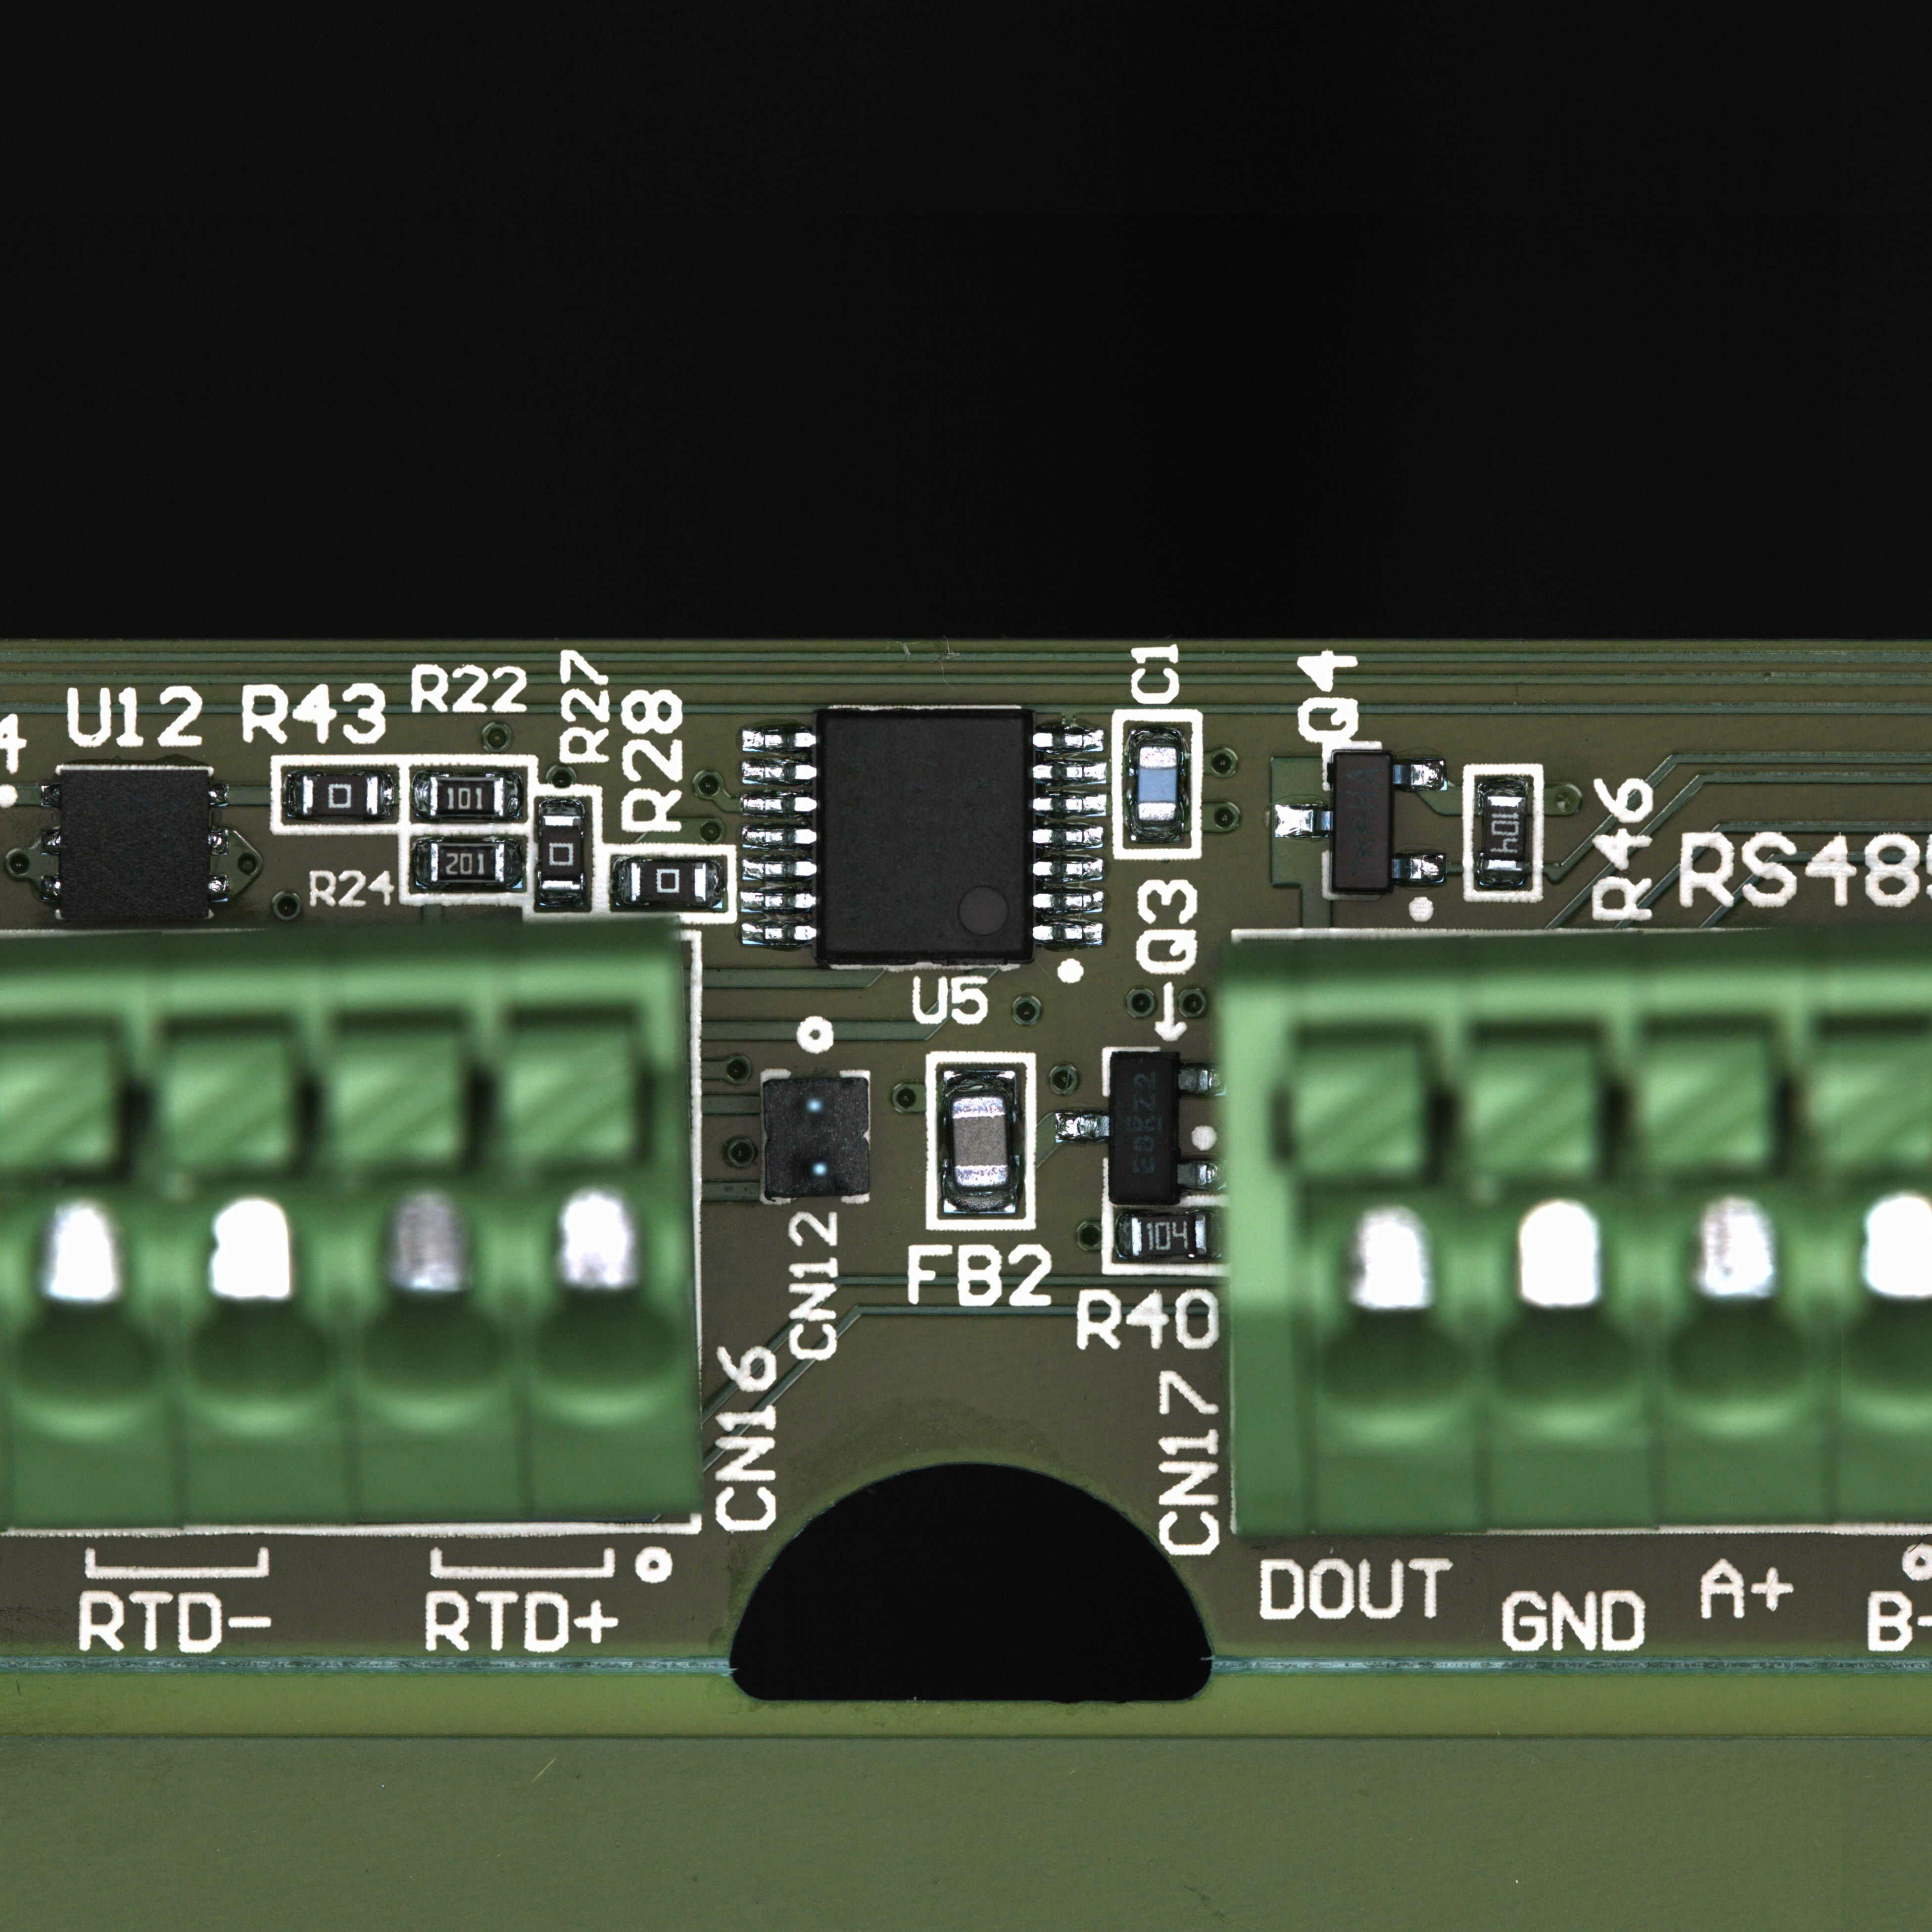Package: (816, 709, 1033, 961), (60, 771, 211, 922), (1109, 1053, 1177, 1207), (1334, 752, 1391, 890), (952, 1097, 1008, 1187), (430, 773, 504, 817), (430, 840, 504, 885), (630, 862, 706, 904), (303, 773, 379, 816), (543, 814, 582, 890), (1484, 796, 1523, 870), (1138, 747, 1177, 821), (1132, 1215, 1194, 1256)
Solder: (943, 1185, 1016, 1214), (943, 1069, 1016, 1097), (740, 922, 817, 947), (1276, 803, 1332, 837), (740, 761, 816, 784), (740, 858, 816, 881), (1392, 853, 1445, 885), (1392, 759, 1445, 791), (738, 890, 816, 911), (1033, 729, 1104, 752), (1033, 922, 1102, 945), (741, 729, 816, 750), (741, 824, 816, 846), (741, 793, 816, 814), (1033, 761, 1106, 782), (1033, 892, 1104, 913), (1033, 824, 1104, 846), (1033, 858, 1104, 879), (1033, 794, 1106, 814), (1060, 1115, 1109, 1138), (1132, 821, 1182, 842), (1177, 1069, 1221, 1092), (1178, 1161, 1219, 1185), (1479, 778, 1527, 796), (706, 860, 722, 908), (504, 771, 520, 819), (379, 770, 395, 817), (540, 800, 586, 816), (1481, 870, 1527, 886), (1132, 731, 1182, 745), (506, 839, 520, 886), (287, 771, 301, 817), (538, 892, 584, 906), (416, 773, 430, 819), (616, 860, 630, 904), (416, 840, 430, 883), (1118, 1214, 1131, 1256), (209, 876, 228, 902), (41, 876, 60, 902), (41, 828, 60, 855), (1196, 1215, 1208, 1254), (211, 828, 228, 855), (41, 784, 60, 807), (211, 786, 228, 809)
